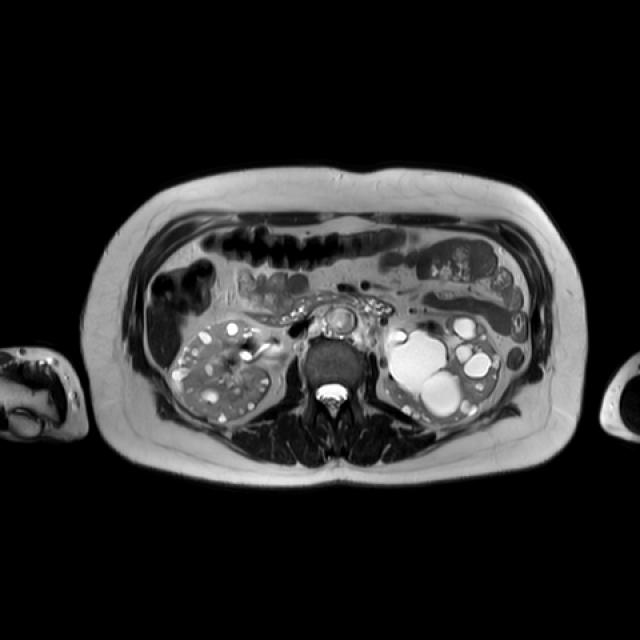sag: (173, 316, 274, 423)
sol: (377, 315, 504, 426)
